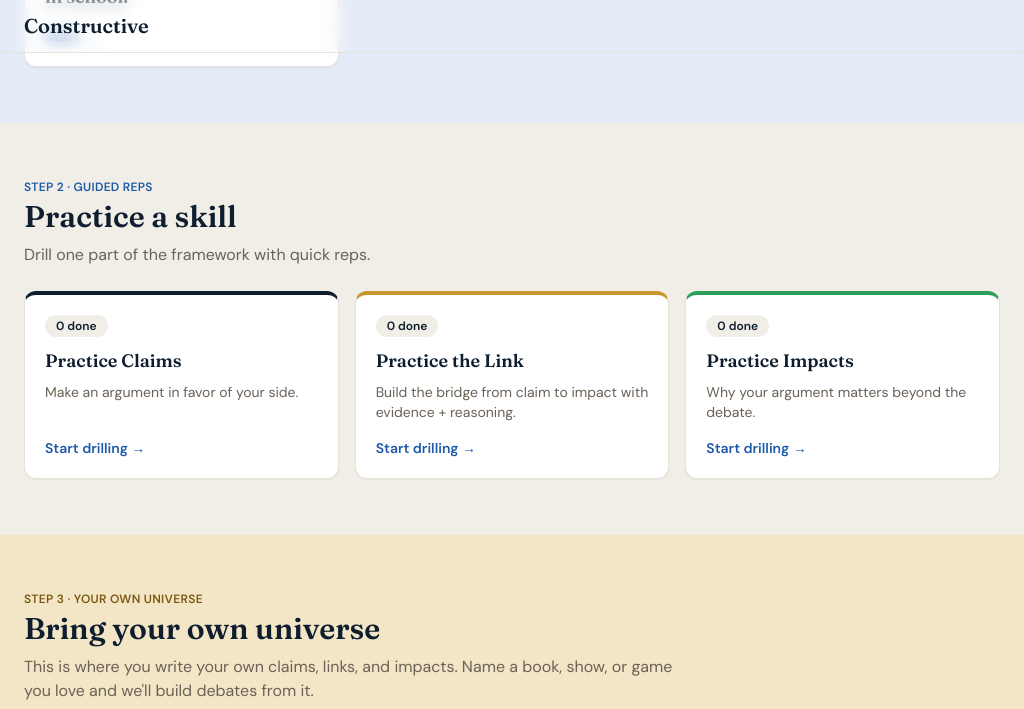
FlowDeck › opens a practice drill when a Practice card is clicked
(page scrolled)
Click the button "Practice Impacts".
click(843, 385)  # box [685, 291, 1000, 479]
(page scrolled)
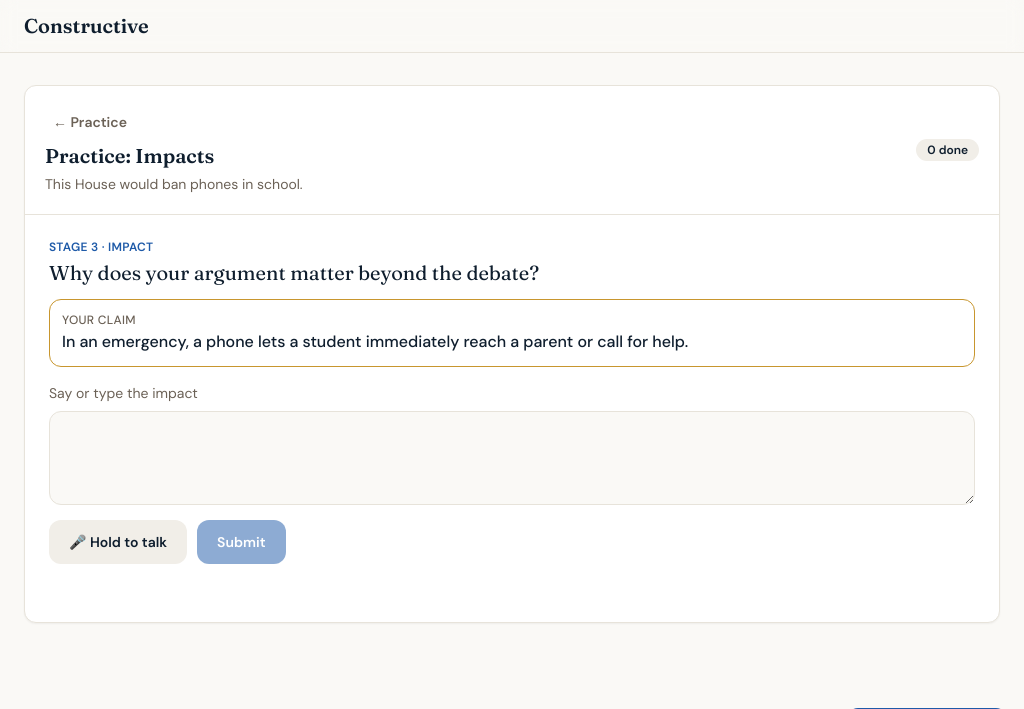
Expected: the text "Why does your argument matter beyond the debate?" is shown, [49, 260, 539, 285]
